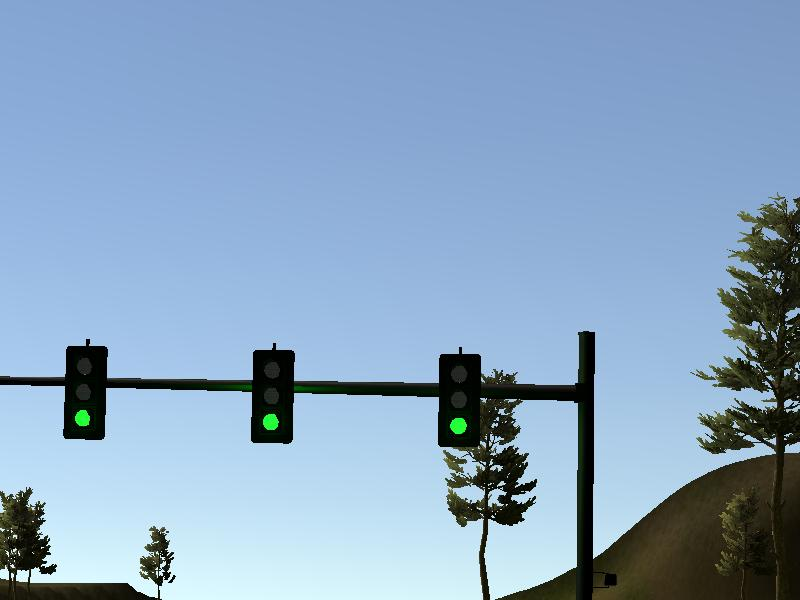green: (63, 345, 107, 441), (250, 349, 294, 445), (438, 353, 482, 449)
